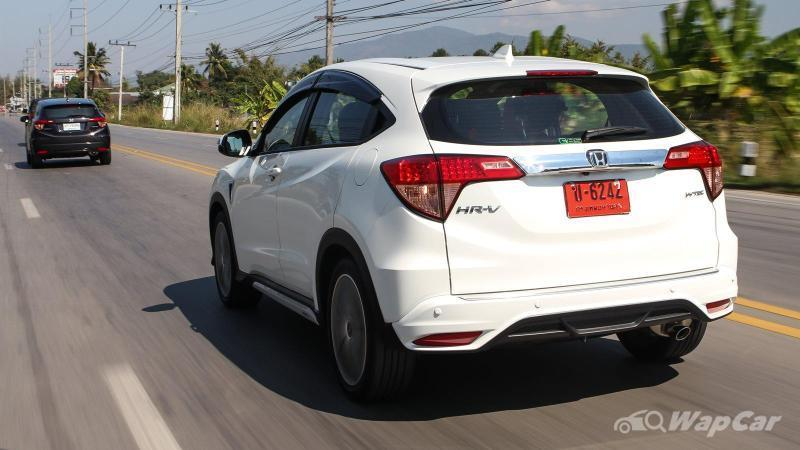bienso: (558, 174, 640, 228), (57, 119, 87, 139)
